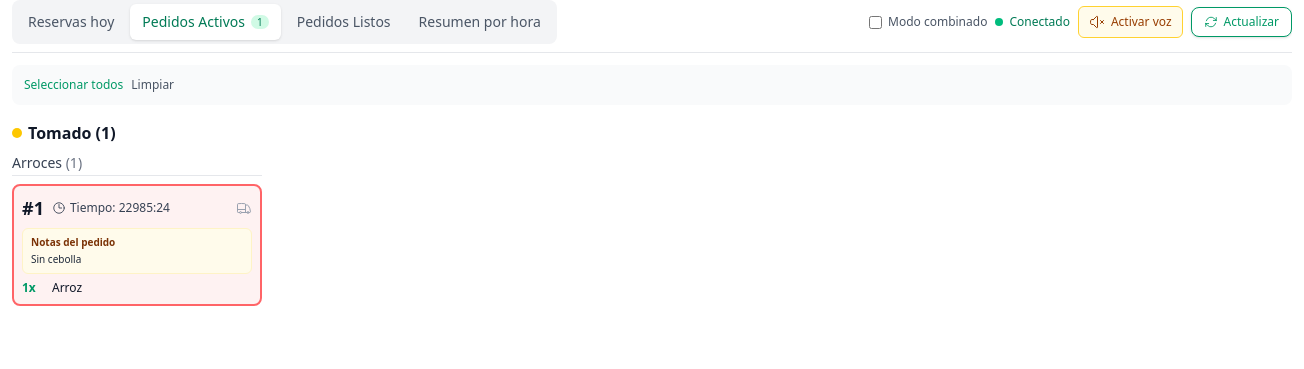
Scenario: KitchenView batched requests and event refresh › does not acknowledge a browser-rejected voice alert
Click the button "Activar voz" at {"x": 1130, "y": 22}, box [1078, 6, 1182, 38]
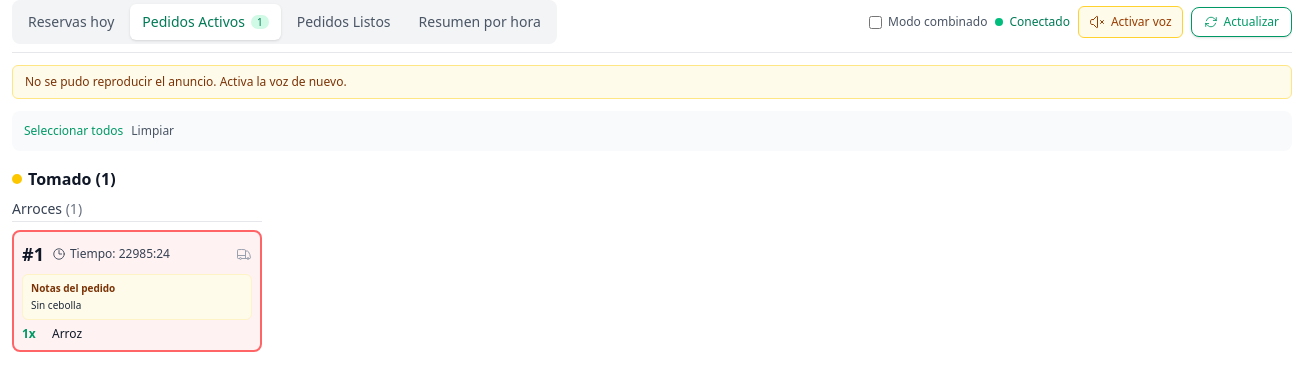
Now the text "No se pudo reproducir el anuncio" is shown, box [25, 73, 347, 90]
